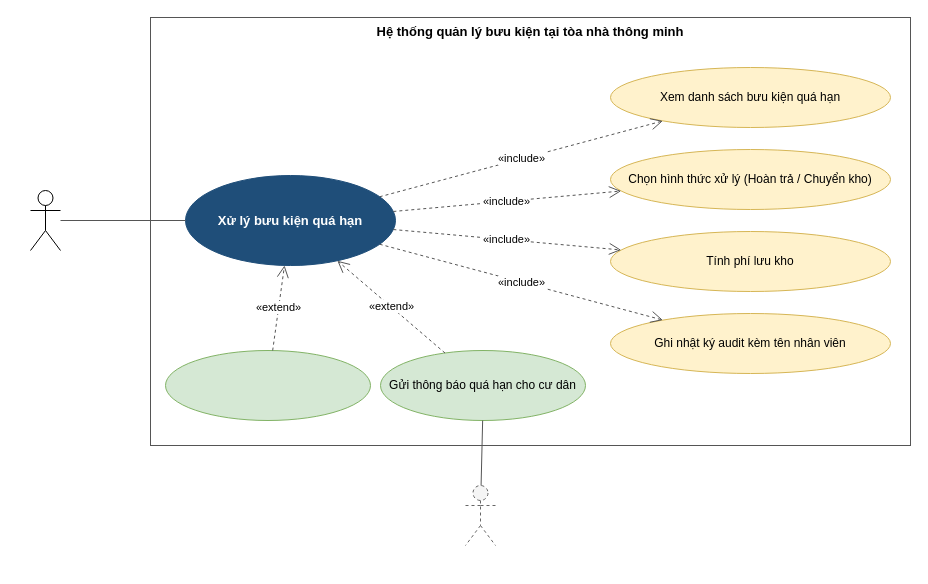
Image size: 928x584. Some labels were removed from this diagram. Each missing label, with the box of its shape:
Dịch vụ thông báo (giả lập): (464, 484, 496, 546)
Nhân viên: (30, 190, 60, 250)
Quét quá hạn (nút Quét ngay hoặc tự động mỗi 60 giây): (164, 350, 370, 420)
